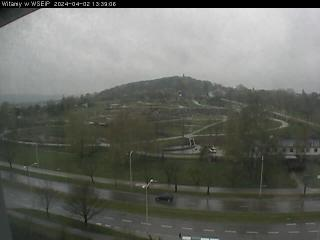car: (155, 191, 175, 203)
